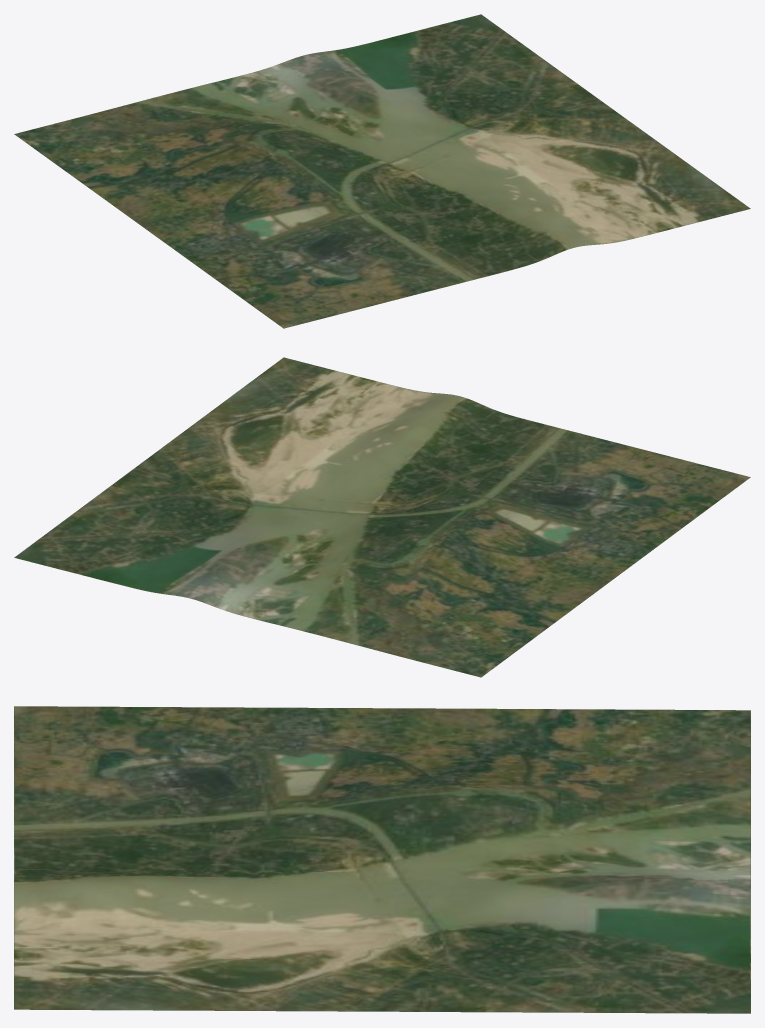
The picture shows the model from 3 angles, top to bottom: view 1: azimuth 30°, elevation 25°; view 2: azimuth 150°, elevation 25°; view 3: azimuth 270°, elevation 25°; orthographic projection. The views are drawn at different scales.
Parts seen in each view (by area): view 1: geometry_0; view 2: geometry_0; view 3: geometry_0.
Boxes of the visible parts, x1=… form: geometry_0: x1=14, y1=14, x2=750, y2=328; geometry_0: x1=14, y1=357, x2=750, y2=677; geometry_0: x1=14, y1=706, x2=750, y2=1013.
Size of the model in its own units: 10000 by 386 by 10000.
1 material, 1 textured.
